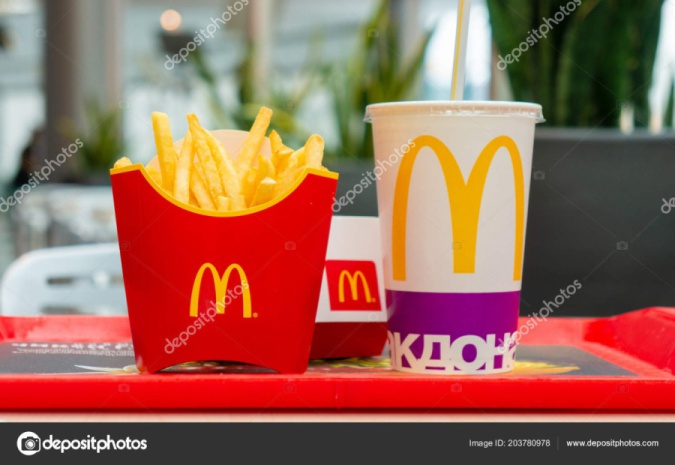mcdonalds: (378, 133, 529, 290), (180, 255, 264, 321), (327, 271, 376, 304)
